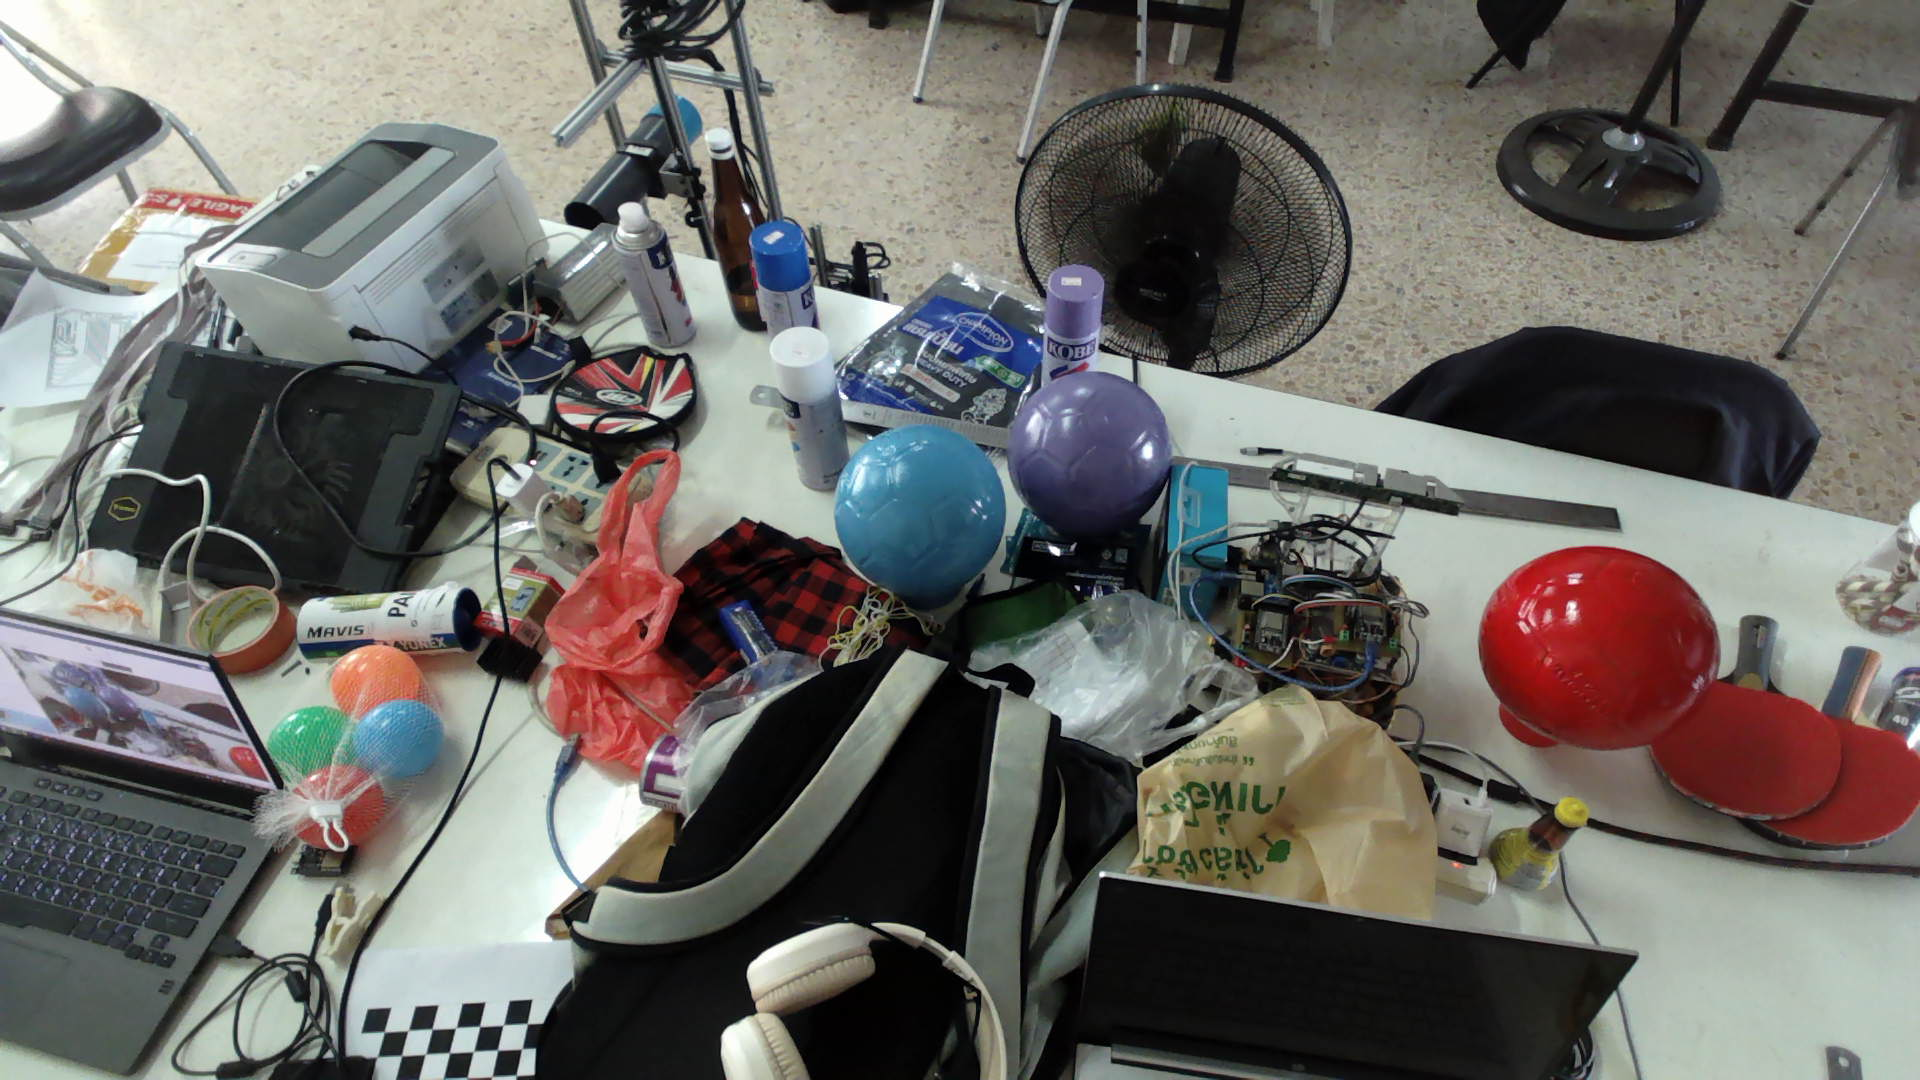Blue ball: (831, 422, 1009, 603)
Purple ball: (1006, 368, 1174, 539)
Red ball: (1476, 542, 1722, 752)
